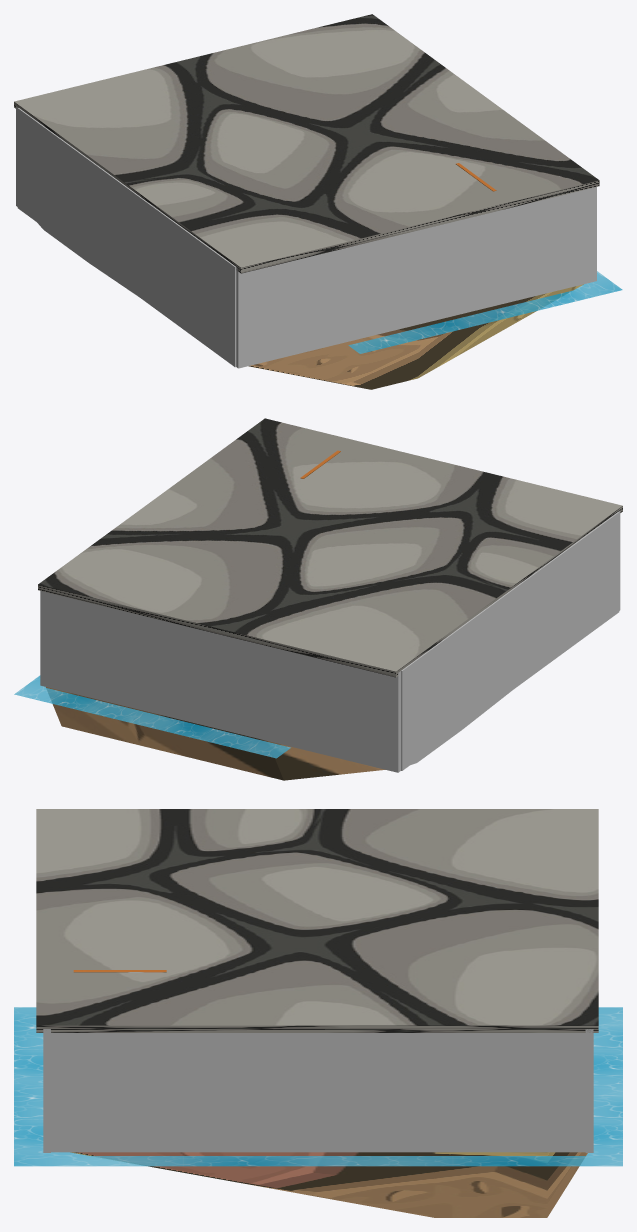
File: Scene1 - Dungeon.fbx
3 renders of one model, top to bottom at view 1: azimuth 30°, elevation 25°; view 2: azimuth 150°, elevation 25°; view 3: azimuth 270°, elevation 25°, orthographic. The views are drawn at different scales.
Visible parts, largest first — view 1: Roof, Wall.001, Wall.002, Floor, Water; view 2: Roof, Wall, Wall.002, Floor, Water; view 3: Roof, Wall.003, Floor, Water, Wall, Wall.001.
Boxes of the visible parts, x1,y1,x2,y2 form: Roof: [14, 14, 599, 273]; Wall.001: [236, 187, 596, 368]; Wall.002: [17, 108, 236, 367]; Floor: [248, 284, 583, 389]; Water: [348, 271, 622, 353]; Roof: [38, 418, 622, 677]; Wall: [40, 591, 400, 772]; Wall.002: [401, 512, 619, 770]; Floor: [46, 687, 385, 780]; Water: [14, 675, 290, 758]; Roof: [36, 809, 598, 1032]; Wall.003: [51, 1033, 585, 1152]; Floor: [70, 1152, 587, 1217]; Water: [14, 1007, 622, 1166]; Wall: [585, 1029, 593, 1152]; Wall.001: [43, 1029, 50, 1152].
Bounding box in the file's own units: 2704 × 1085 × 3079.
